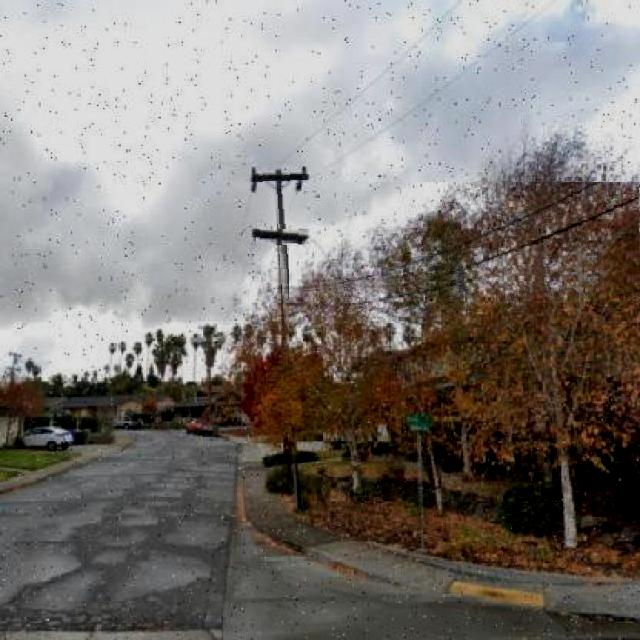crossarm: (250, 166, 310, 194), (250, 227, 311, 245)
pole: (275, 171, 289, 353)
wire: (291, 182, 614, 291), (290, 220, 639, 309)
